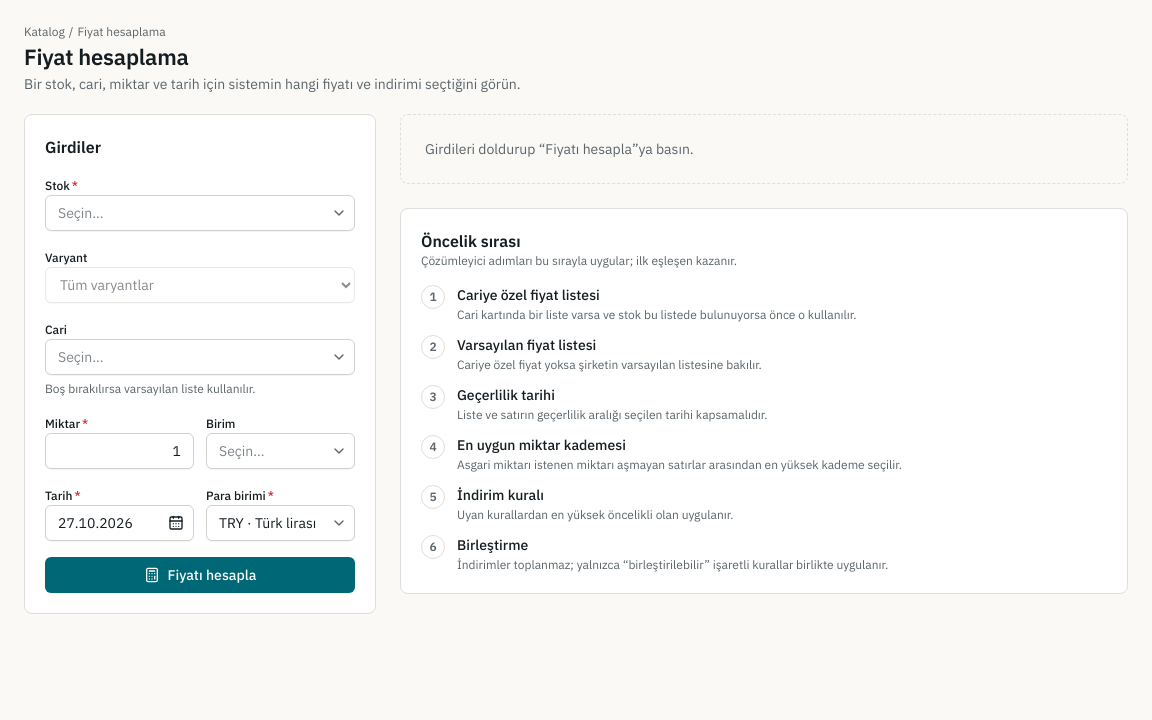
PricingPlaygroundPage › requires an item
Click the button "Fiyatı hesapla" at (200, 575), box [45,557,355,593]
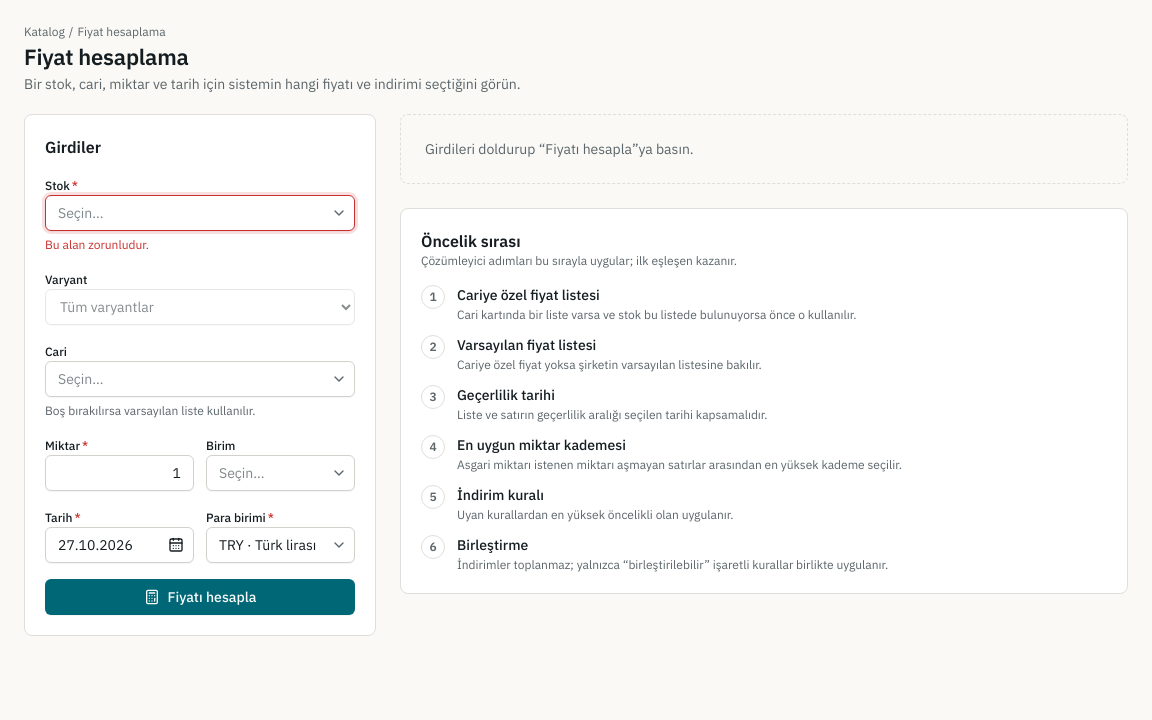
Expected: the text "Bu alan zorunludur." is shown, [45,237,149,252]
